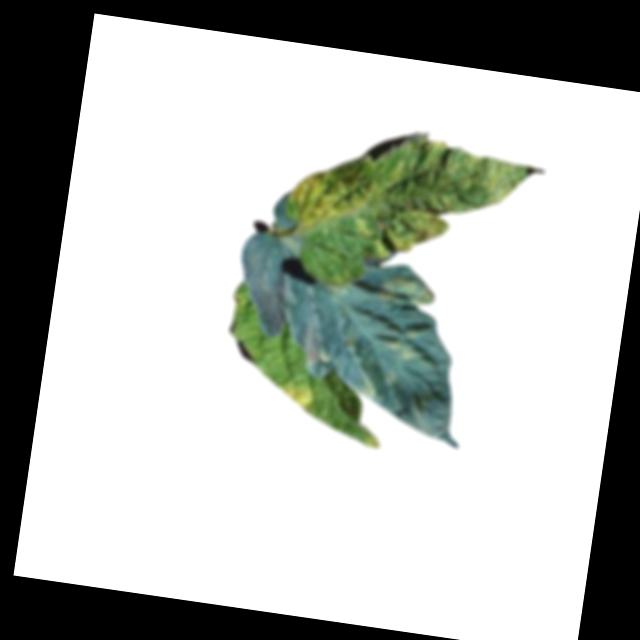Leaf_Mold: (280, 116, 533, 281), (377, 272, 439, 314), (375, 320, 428, 362), (269, 378, 316, 413), (299, 327, 334, 367)
